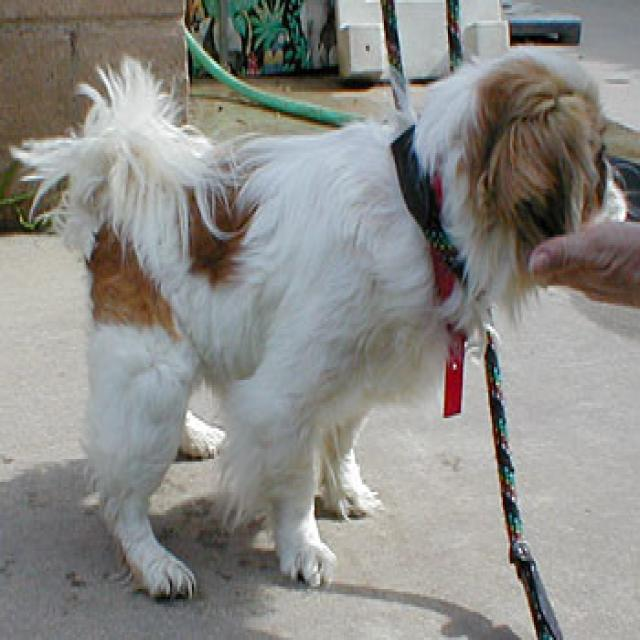Dogs: (11, 46, 629, 599)
